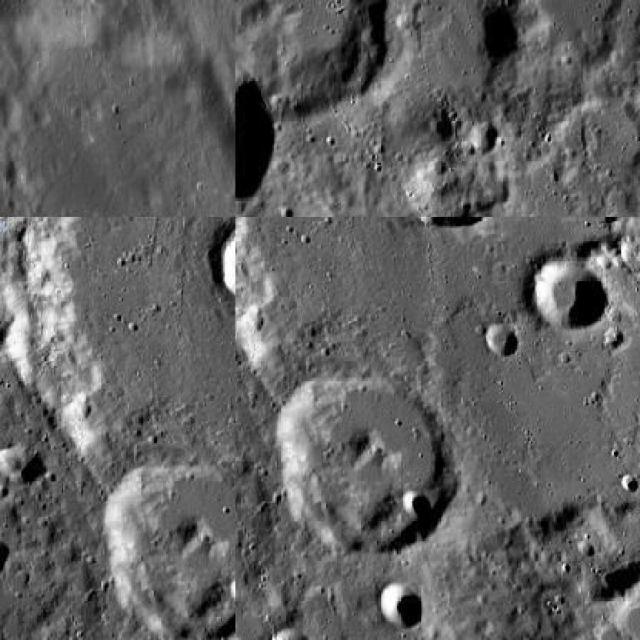crater: (275, 380, 454, 555), (101, 466, 234, 639), (235, 0, 388, 117), (235, 65, 274, 202), (532, 260, 606, 331), (377, 584, 420, 628), (485, 323, 517, 357), (408, 492, 432, 523), (268, 626, 312, 639), (620, 472, 635, 492)
